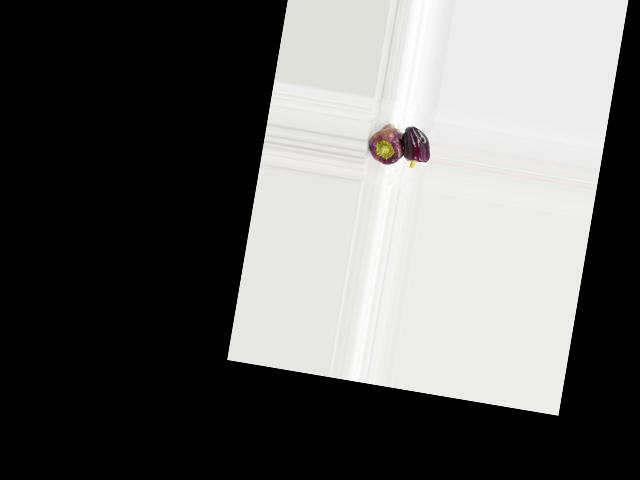bell_pepper: (363, 113, 410, 175)
